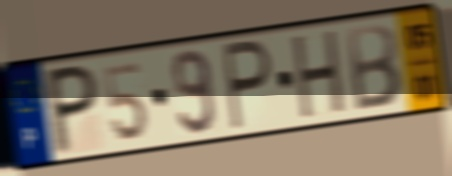5: (100, 59, 150, 144)
9: (169, 47, 217, 138)
B: (344, 21, 404, 114)
H: (290, 26, 348, 124)
P: (46, 61, 101, 160), (220, 36, 275, 134)
